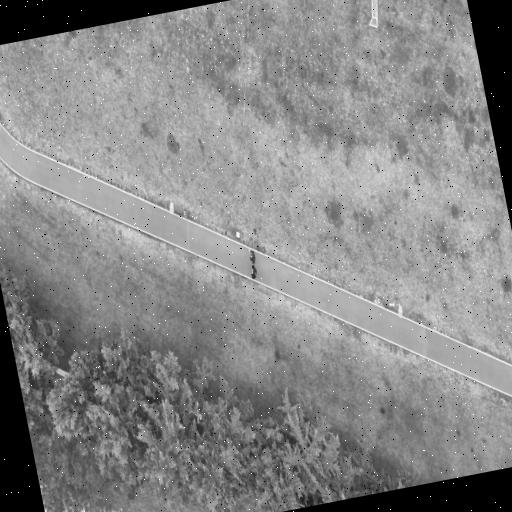person: (251, 265, 256, 279), (250, 250, 255, 263)
